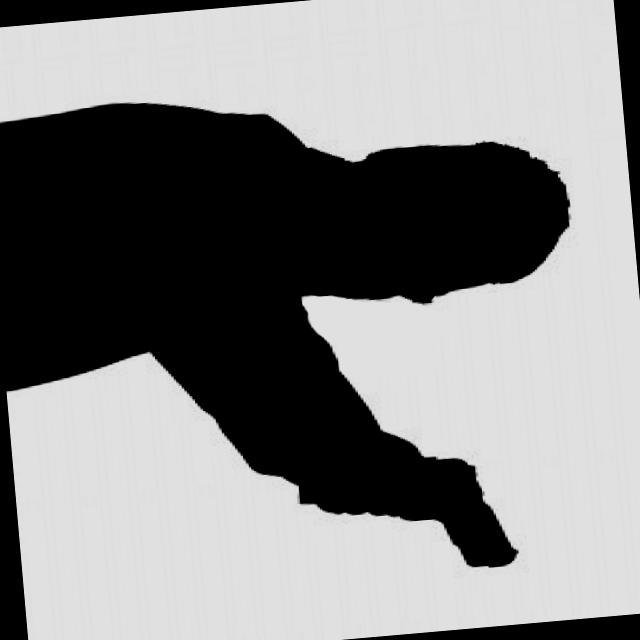handgun: (337, 446, 529, 584)
